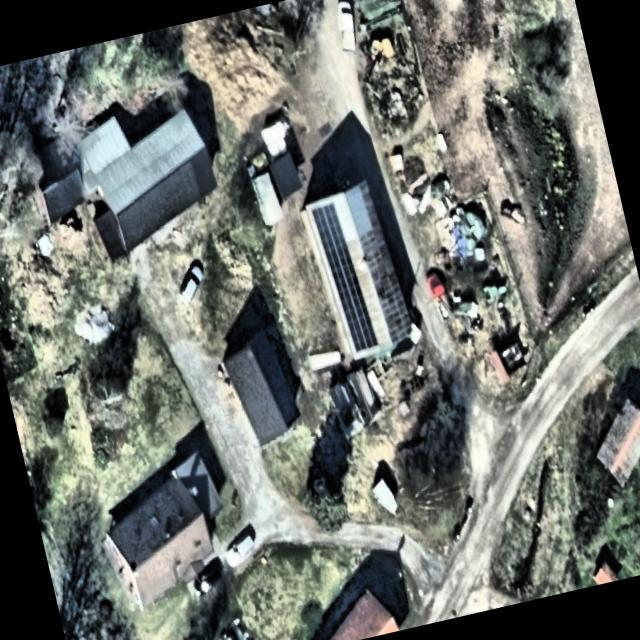roof_pv: (308, 194, 381, 357)
